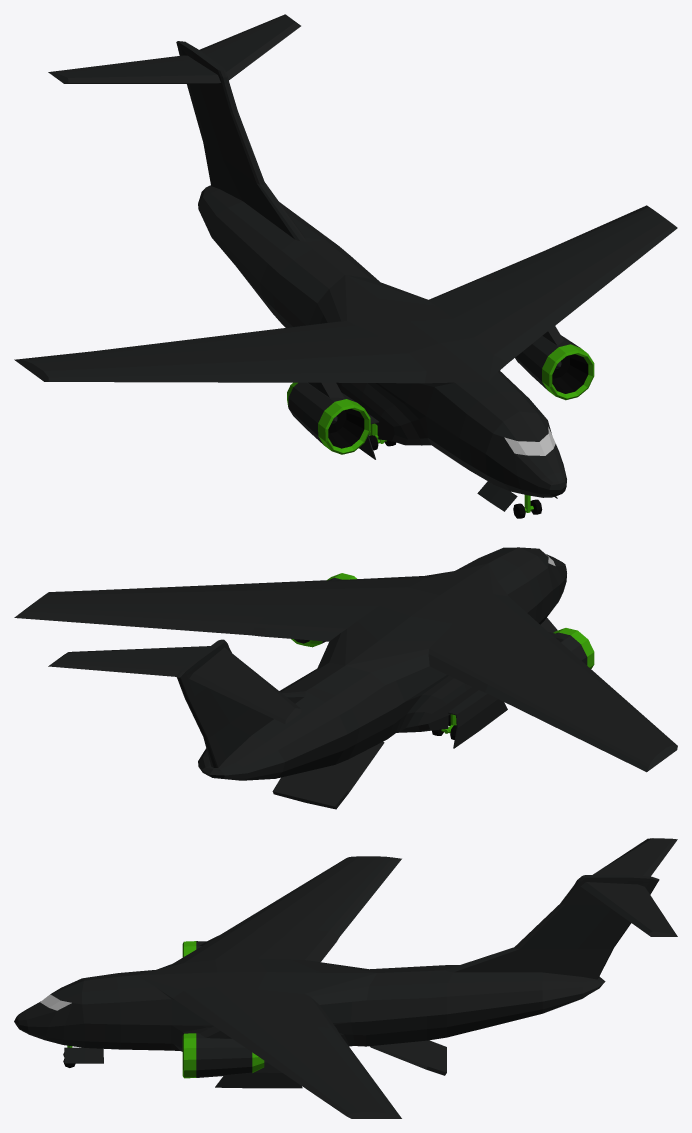
Rendered from Plane_black_green.fbx.
3 views of the same model, one above another, from view 1: azimuth 30°, elevation 25°; view 2: azimuth 150°, elevation 25°; view 3: azimuth 270°, elevation 25° (orthographic). The views are drawn at different scales.
Parts seen in each view (by area): view 1: aviao int; view 2: aviao int, p baixo c, pa t esq; view 3: aviao int, p baixo c, pa t dir, pa f dir.
Boxes of the visible parts, x1=… form: aviao int: x1=14, y1=14, x2=677, y2=497; aviao int: x1=14, y1=547, x2=677, y2=780; p baixo c: x1=272, y1=742, x2=384, y2=809; pa t esq: x1=448, y1=690, x2=507, y2=748; aviao int: x1=14, y1=838, x2=677, y2=1118; p baixo c: x1=370, y1=1040, x2=446, y2=1075; pa t dir: x1=215, y1=1061, x2=302, y2=1088; pa f dir: x1=64, y1=1047, x2=103, y2=1063.
Size of the model in its own units: 3133 by 1055 by 3380.
